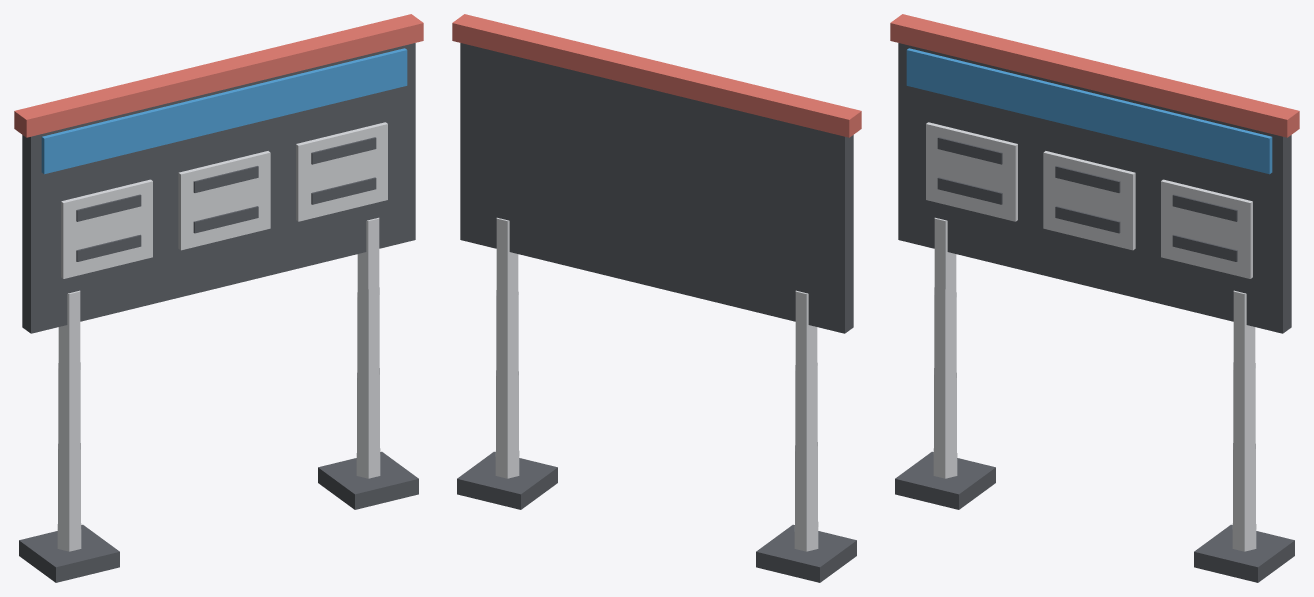
File: dog-agility-and-training-field-scoreboard-post-23b98089.glb
3 views of the same model, side by side, from view 1: azimuth 30°, elevation 25°; view 2: azimuth 150°, elevation 25°; view 3: azimuth 330°, elevation 25° (orthographic).
Visible parts, largest first — view 1: scoreboard-post-charcoal, scoreboard-post-steel, scoreboard-post-azure, scoreboard-post-poppy; view 2: scoreboard-post-charcoal, scoreboard-post-poppy, scoreboard-post-steel; view 3: scoreboard-post-charcoal, scoreboard-post-steel, scoreboard-post-azure, scoreboard-post-poppy.
Part boxes in pixels (box(x1,y1,x2,y2)): scoreboard-post-charcoal: box(19, 43, 418, 582); scoreboard-post-steel: box(57, 122, 387, 551); scoreboard-post-azure: box(41, 48, 407, 174); scoreboard-post-poppy: box(14, 14, 423, 137); scoreboard-post-charcoal: box(457, 43, 856, 582); scoreboard-post-poppy: box(452, 14, 861, 137); scoreboard-post-steel: box(495, 217, 818, 551); scoreboard-post-charcoal: box(895, 43, 1294, 582); scoreboard-post-steel: box(926, 122, 1256, 551); scoreboard-post-azure: box(906, 48, 1272, 174); scoreboard-post-poppy: box(890, 14, 1299, 137).
Size of the model in its own units: 1.86 by 2.05 by 0.3.
